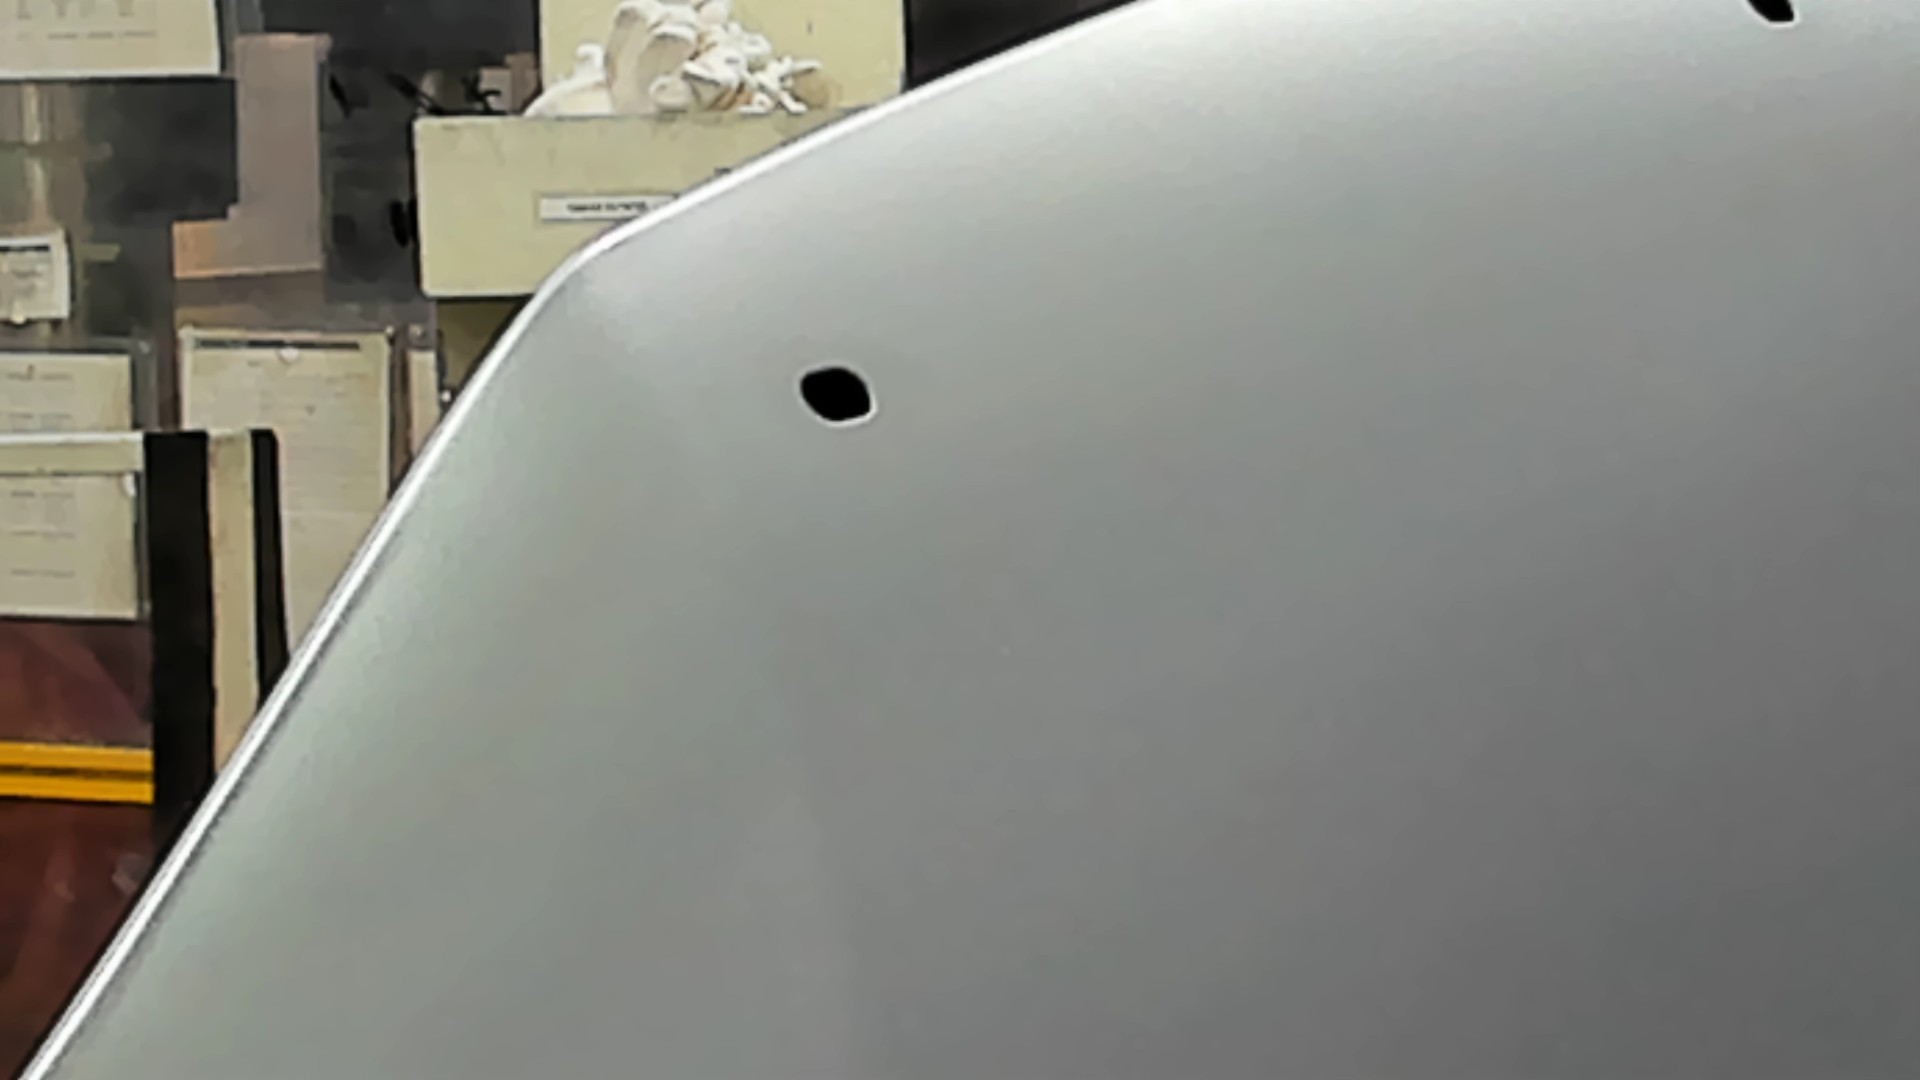amorfo: (793, 359, 884, 433), (1738, 1, 1811, 33)
capo: (986, 92, 1920, 1080)
